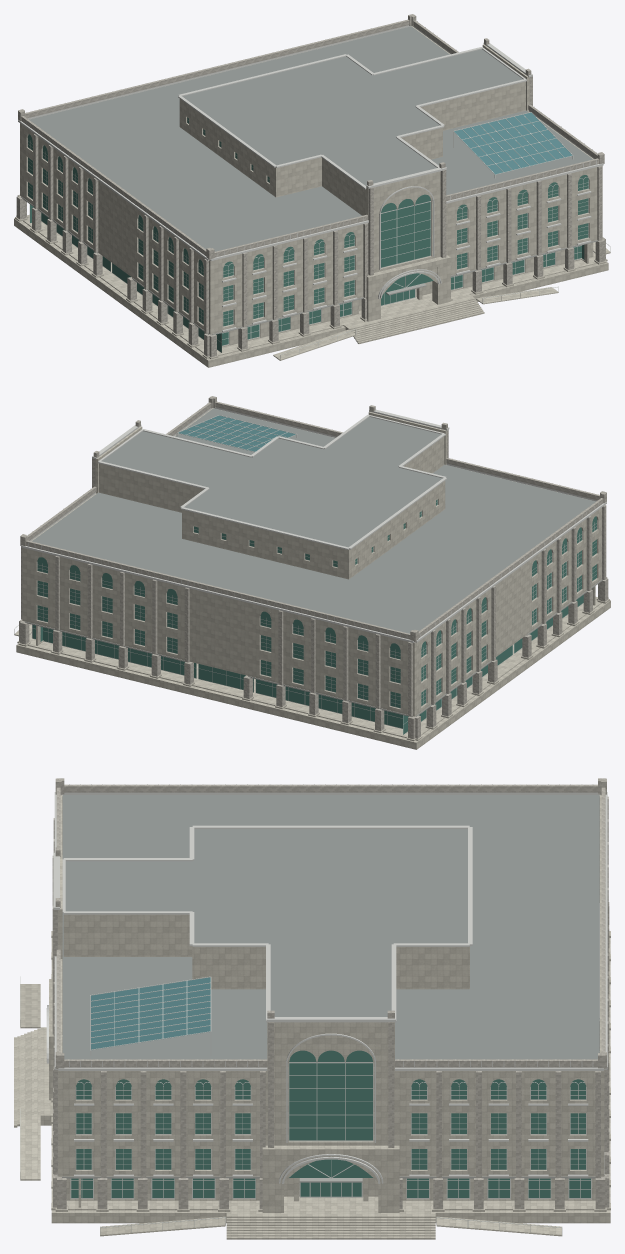
3 views of the same model, one above another, from view 1: azimuth 30°, elevation 25°; view 2: azimuth 150°, elevation 25°; view 3: azimuth 270°, elevation 25° (orthographic). The views are drawn at different scales.
Parts seen in each view (by area): view 1: library__roof, library__wall, library__rusticated-pier, library__upper-roof-core, library__roof-parapet, library__upper-glass, library__roof-cap, library__arcade-piers, library__foundation, library__roof-solar, library__pier-base, library__central-glass (+13 smaller); view 2: library__roof, library__wall, library__upper-roof-core, library__rusticated-pier, library__upper-glass, library__roof-parapet, library__roof-cap, library__foundation, library__arcade-piers, library__lobby-glass, library__pier-base, library__window-frame (+4 smaller); view 3: library__roof, library__wall, library__upper-roof-core, library__roof-parapet, library__roof-cap, library__rusticated-pier, library__upper-glass, library__side-glass, library__side-tower, library__roof-solar, library__pier-base, library__access-ramp (+18 smaller).
Boxes of the visible parts, bbox=[...] form: library__roof: bbox=[29, 26, 592, 251]; library__wall: bbox=[20, 26, 602, 334]; library__rusticated-pier: bbox=[33, 76, 602, 333]; library__upper-roof-core: bbox=[179, 81, 525, 215]; library__roof-parapet: bbox=[18, 14, 604, 259]; library__upper-glass: bbox=[27, 117, 588, 326]; library__roof-cap: bbox=[18, 21, 604, 260]; library__arcade-piers: bbox=[16, 194, 605, 357]; library__foundation: bbox=[14, 214, 608, 367]; library__roof-solar: bbox=[454, 112, 572, 174]; library__pier-base: bbox=[15, 215, 607, 359]; library__central-glass: bbox=[381, 194, 430, 267]; library__roof: bbox=[32, 408, 595, 633]; library__wall: bbox=[22, 408, 601, 716]; library__upper-roof-core: bbox=[99, 436, 445, 579]; library__rusticated-pier: bbox=[21, 430, 606, 716]; library__upper-glass: bbox=[37, 499, 597, 707]; library__roof-parapet: bbox=[20, 396, 606, 641]; library__roof-cap: bbox=[20, 403, 606, 642]; library__foundation: bbox=[16, 597, 610, 749]; library__arcade-piers: bbox=[19, 577, 608, 739]; library__lobby-glass: bbox=[32, 595, 583, 734]; library__pier-base: bbox=[17, 597, 609, 741]; library__window-frame: bbox=[37, 499, 597, 708]; library__roof: bbox=[62, 795, 599, 1059]; library__wall: bbox=[58, 795, 604, 1176]; library__upper-roof-core: bbox=[63, 914, 469, 989]; library__roof-parapet: bbox=[55, 778, 606, 1068]; library__roof-cap: bbox=[53, 784, 607, 1070]; library__rusticated-pier: bbox=[52, 796, 608, 1177]; library__upper-glass: bbox=[76, 1079, 586, 1169]; library__side-glass: bbox=[289, 1050, 372, 1140]; library__side-tower: bbox=[267, 1022, 394, 1145]; library__roof-solar: bbox=[91, 977, 210, 1049]; library__pier-base: bbox=[51, 931, 610, 1211]; library__access-ramp: bbox=[20, 984, 562, 1236].
Bounding box in the file's own units: 75.97 × 24.97 × 64.59.
8 materials, 2 textured.
